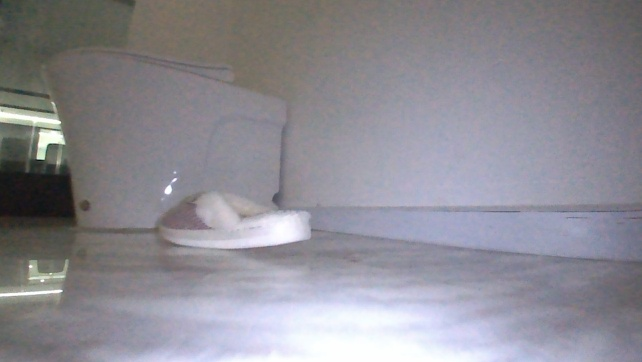shoe: (156, 187, 312, 250)
toilet: (36, 42, 287, 230)
